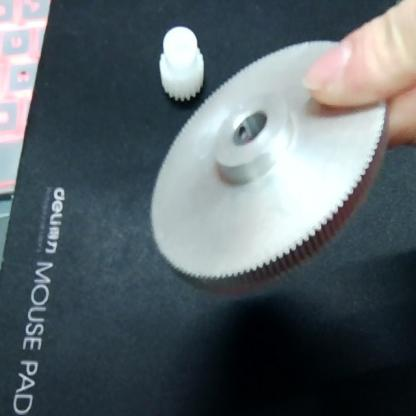FOD: (144, 33, 396, 292), (153, 21, 205, 109)
